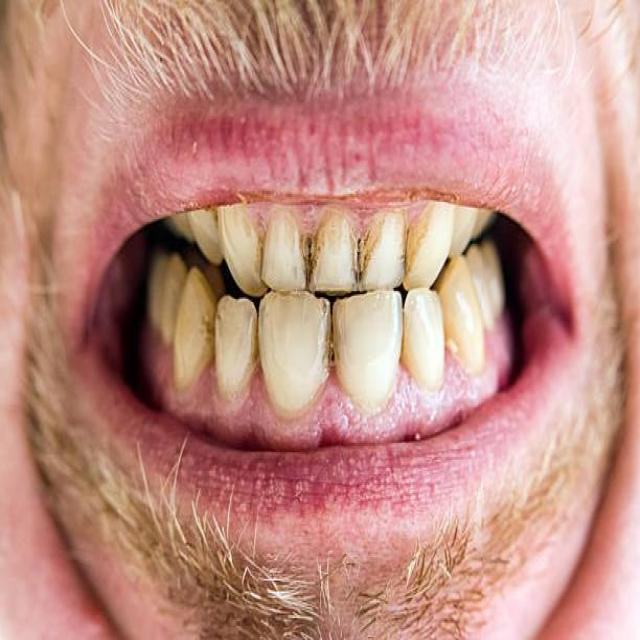caries: (320, 303, 349, 374), (297, 229, 326, 291), (348, 222, 376, 280), (397, 218, 419, 282), (250, 226, 271, 292)
